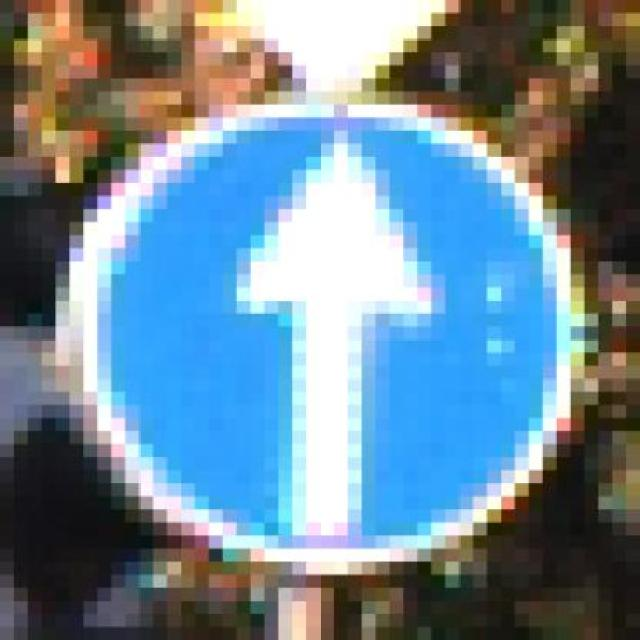Straight Ahead Only: (28, 90, 612, 588)
